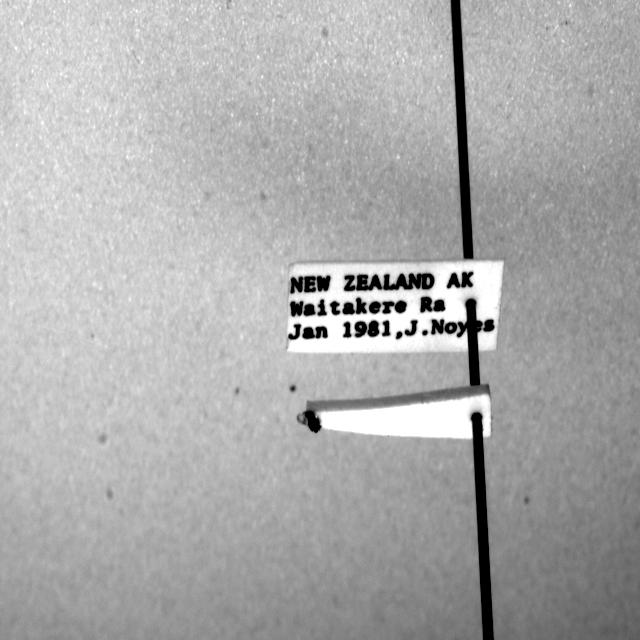typed_label: (286, 259, 504, 352)
